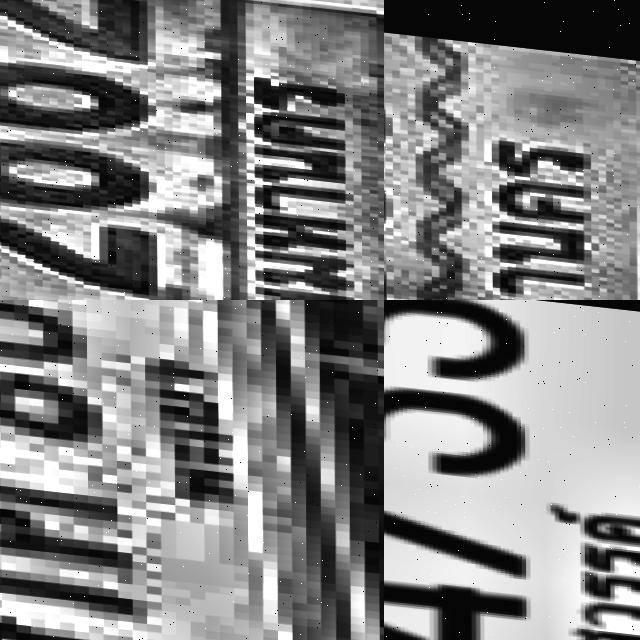license-plate: (0, 300, 384, 640), (0, 0, 384, 300), (384, 300, 640, 640), (384, 0, 640, 300)
